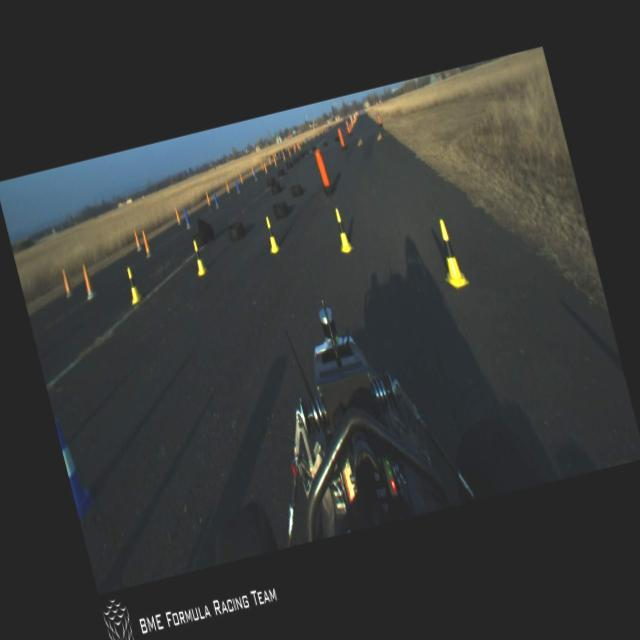blue_cone: (54, 414, 96, 520)
unknown_cone: (78, 261, 98, 300), (59, 267, 73, 297), (138, 229, 152, 257), (180, 204, 192, 229), (131, 228, 143, 252), (210, 188, 220, 210), (173, 205, 182, 225), (204, 189, 212, 206)
yellow_cone: (430, 214, 470, 291), (330, 205, 354, 253), (262, 215, 280, 254), (124, 265, 142, 304), (189, 239, 207, 275)
